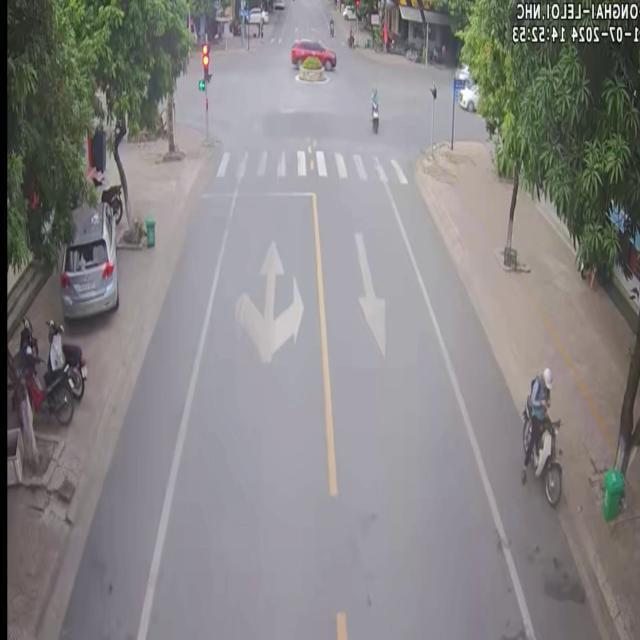car: (58, 200, 117, 317), (288, 36, 334, 69), (457, 82, 477, 109)
motobike: (519, 365, 560, 505), (18, 334, 69, 422), (46, 318, 84, 398), (368, 85, 378, 131)
red_light: (202, 47, 209, 79)
stop_line: (198, 188, 313, 197)
